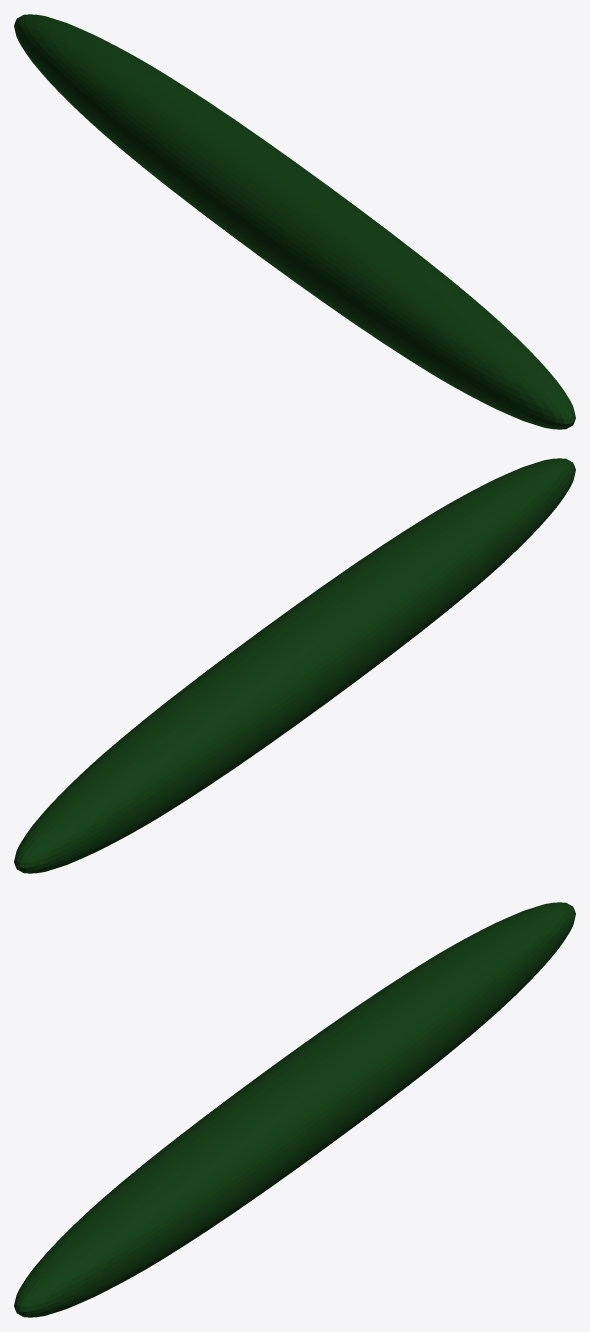
Rendered from Gurke.fbx.
The picture shows the model from 3 angles, top to bottom: view 1: azimuth 30°, elevation 25°; view 2: azimuth 150°, elevation 25°; view 3: azimuth 330°, elevation 25°; orthographic projection.
Visible parts, largest first — view 1: Cube; view 2: Cube; view 3: Cube.
Part boxes in pixels (box(x1,y1,x2,y2)): Cube: box(14, 14, 575, 429); Cube: box(14, 458, 575, 873); Cube: box(14, 902, 575, 1317).
Size of the model in its own units: 19.95 by 16.96 by 215.
